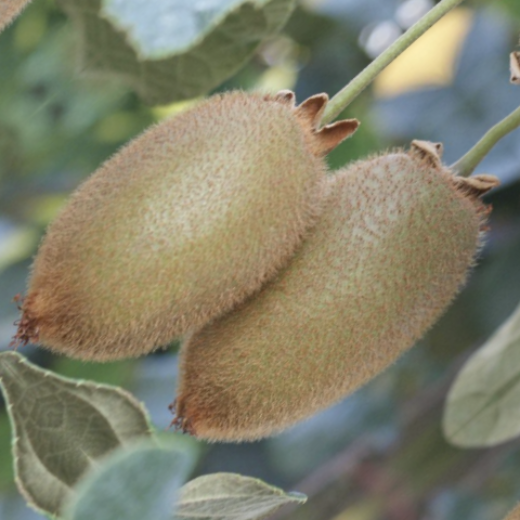kiwi: (112, 92, 520, 511), (0, 13, 405, 433)
